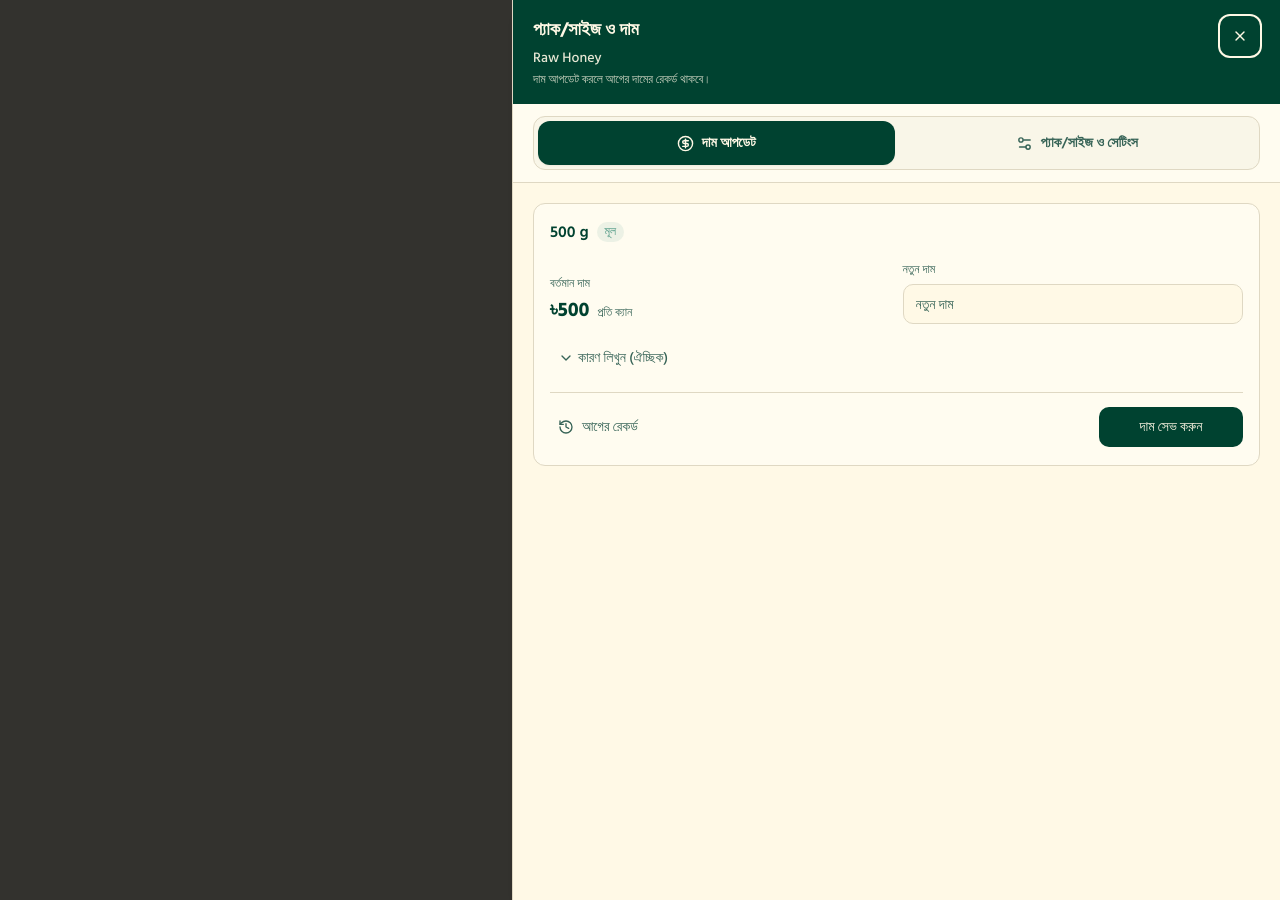
Test: price-first pack/size drawer › creates a named pack/size from the collapsed settings form and clears it after success
Press the mouse on the tab "প্যাক/সাইজ ও সেটিংস" at [1077, 143], box top-left (898, 121), bottom-right (1255, 165)
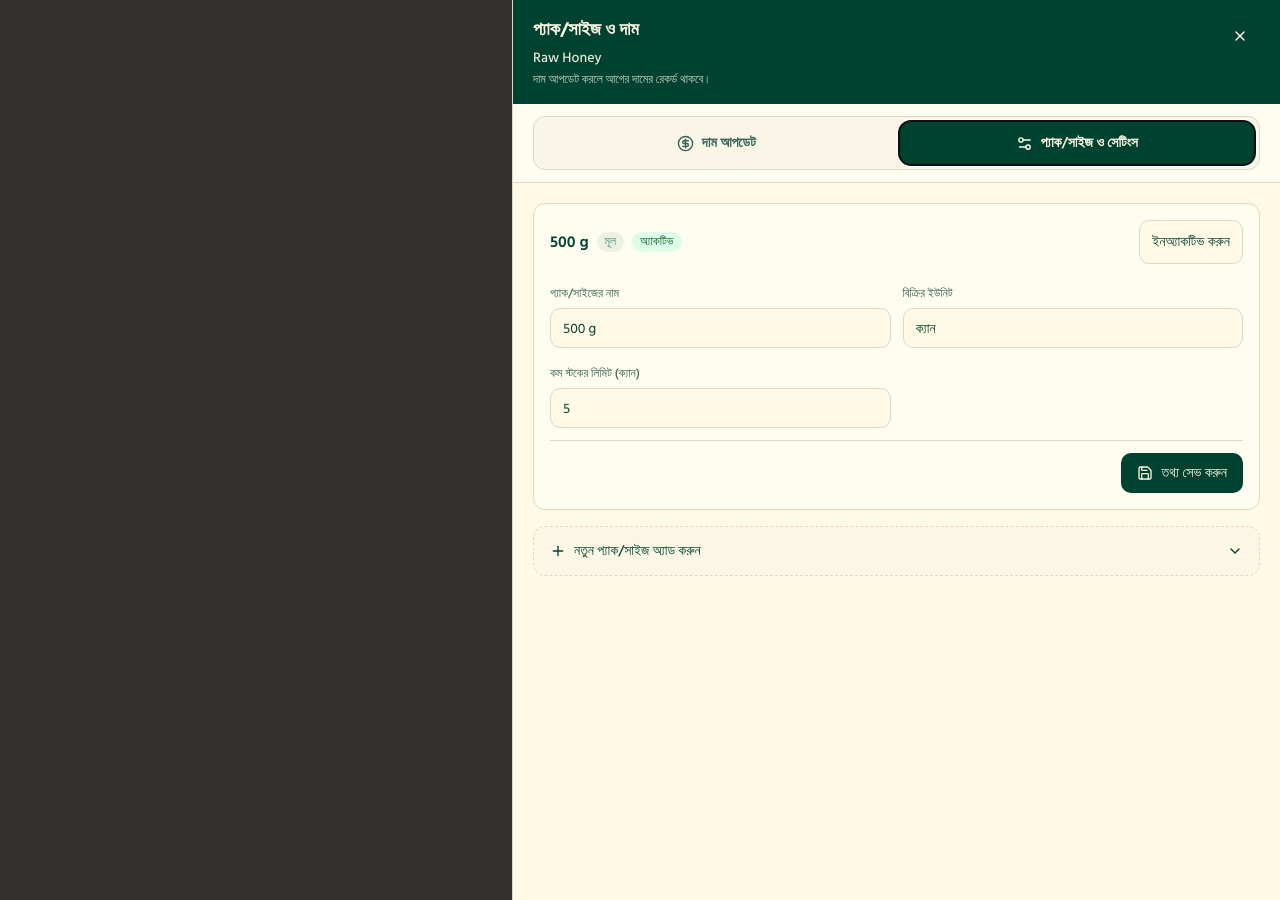
Click the button "নতুন প্যাক/সাইজ অ্যাড করুন" at [637, 550], box top-left (534, 527), bottom-right (1259, 575)
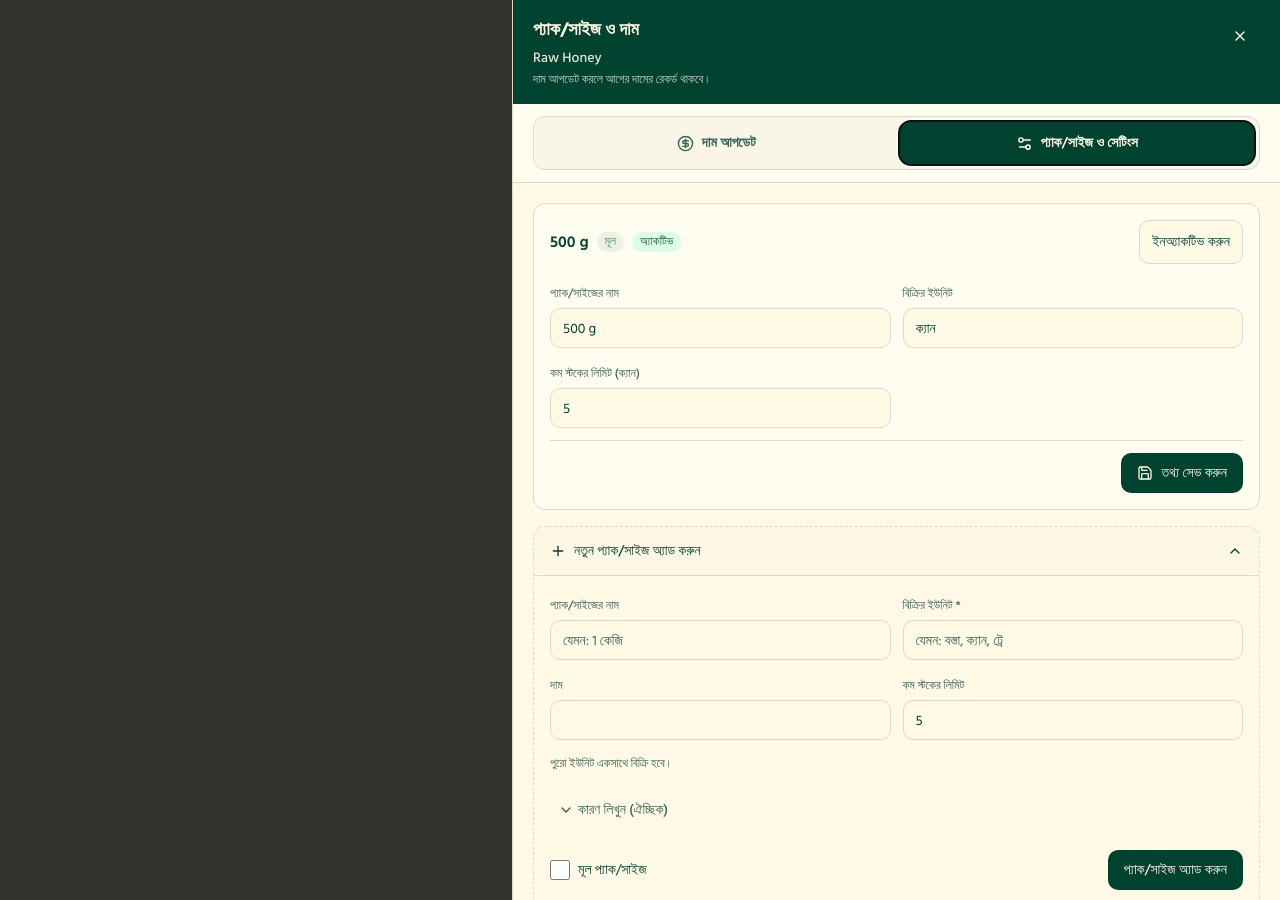
Type "1 kg" into the field labelled "প্যাক/সাইজের নাম" below "বিক্রির ইউনিট *" at [720, 640], box top-left (550, 620), bottom-right (890, 660)
Type "বস্তা" into the field labelled "বিক্রির ইউনিট *" at [1073, 640], box top-left (902, 620), bottom-right (1243, 660)
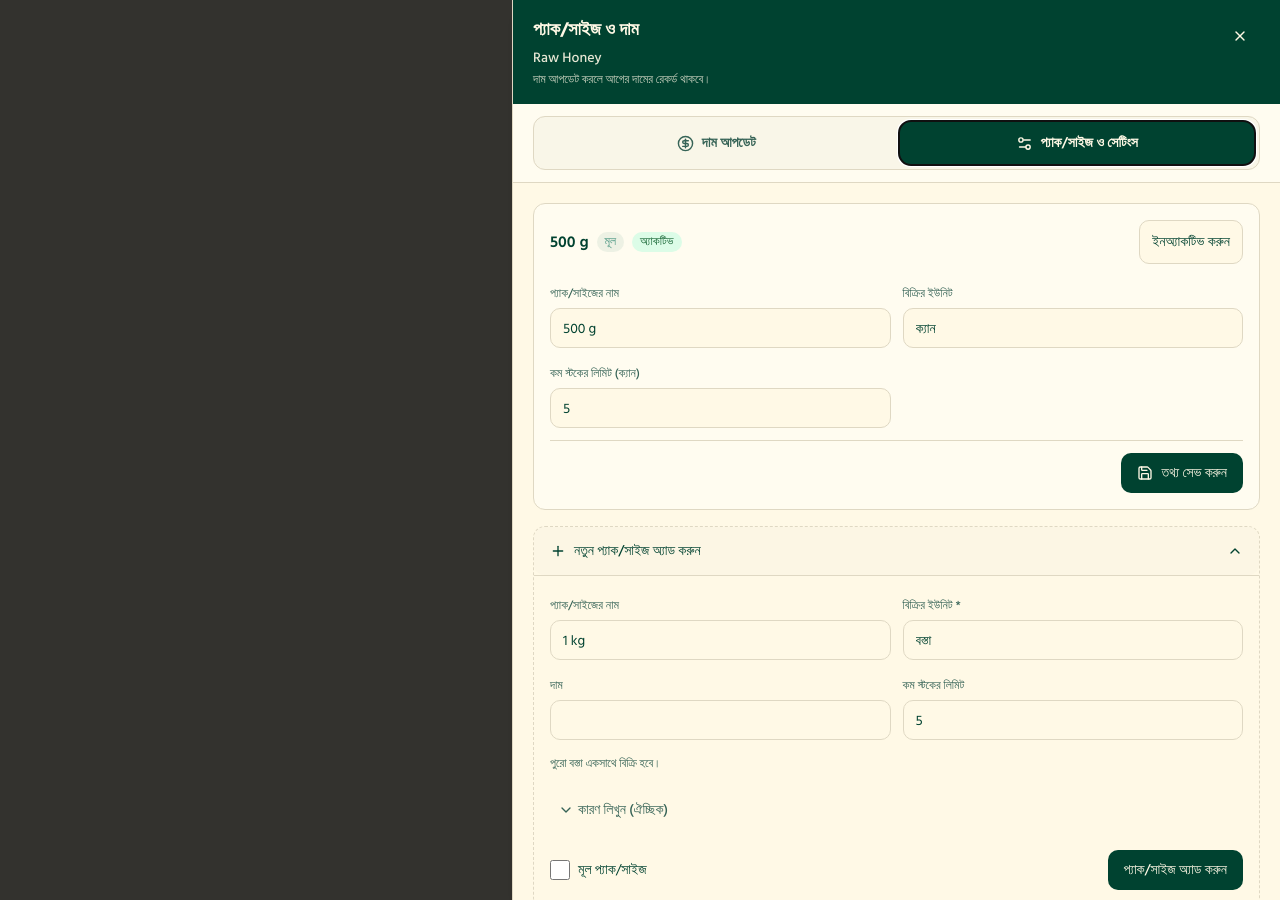
Type "900" into the number field labelled "দাম" at [720, 720], box top-left (550, 700), bottom-right (890, 740)
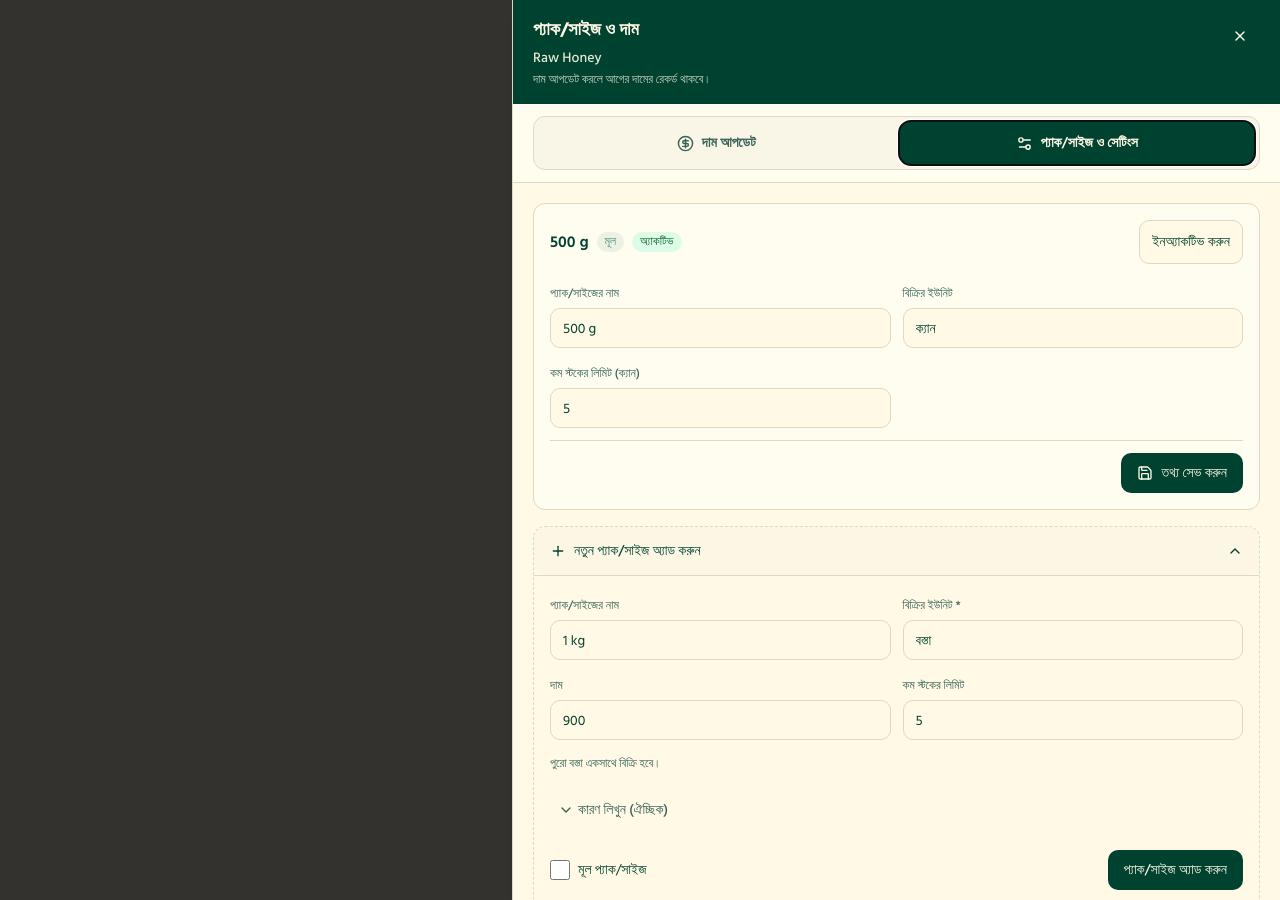
Result: the text "পুরো বস্তা একসাথে বিক্রি হবে।" is shown at top-left (550, 754), bottom-right (661, 773)
Click the button "প্যাক/সাইজ অ্যাড করুন" at [1175, 870], box top-left (1108, 850), bottom-right (1243, 890)
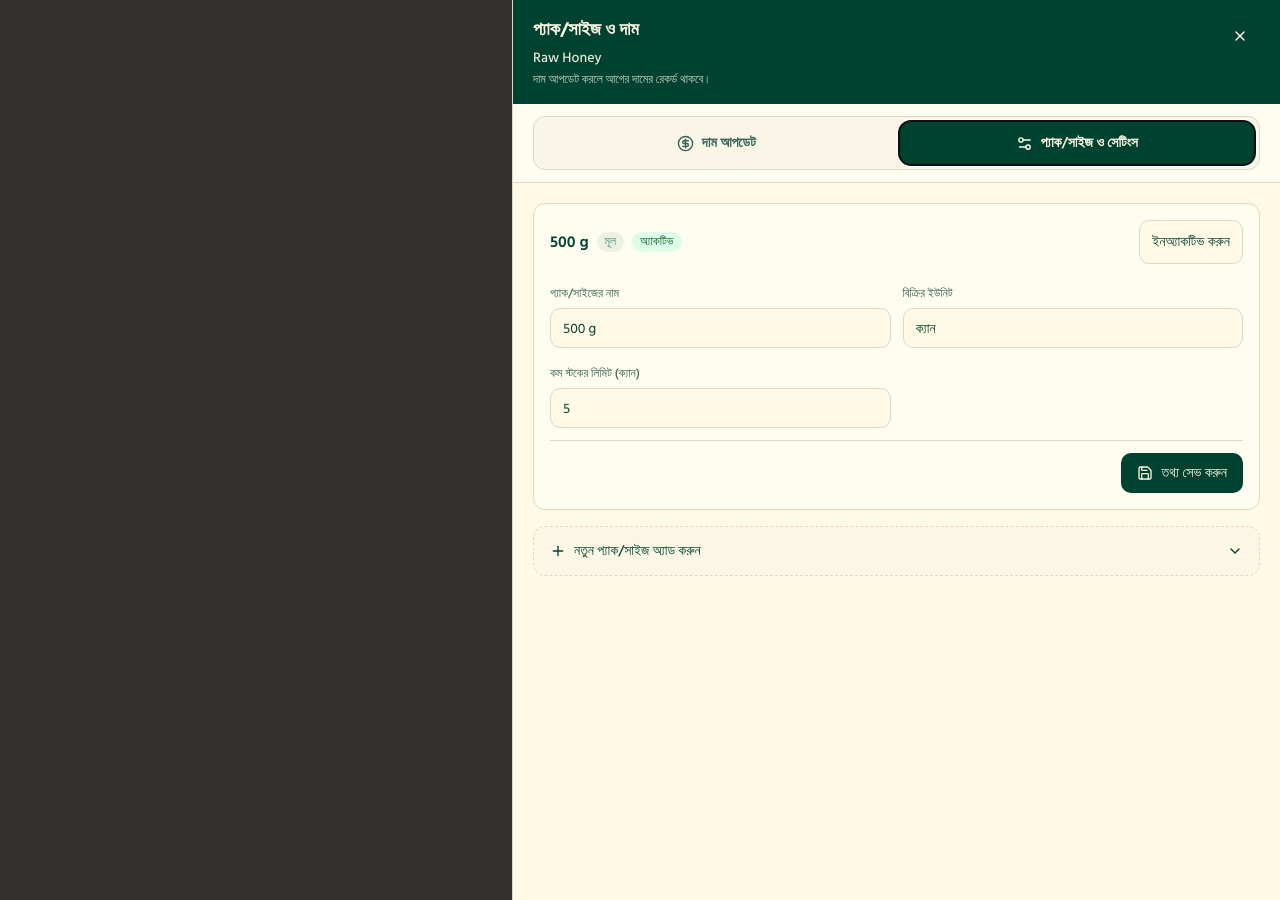
Result: the button "নতুন প্যাক/সাইজ অ্যাড করুন" is collapsed
Click the button "নতুন প্যাক/সাইজ অ্যাড করুন" at [637, 550], box top-left (534, 527), bottom-right (1259, 575)
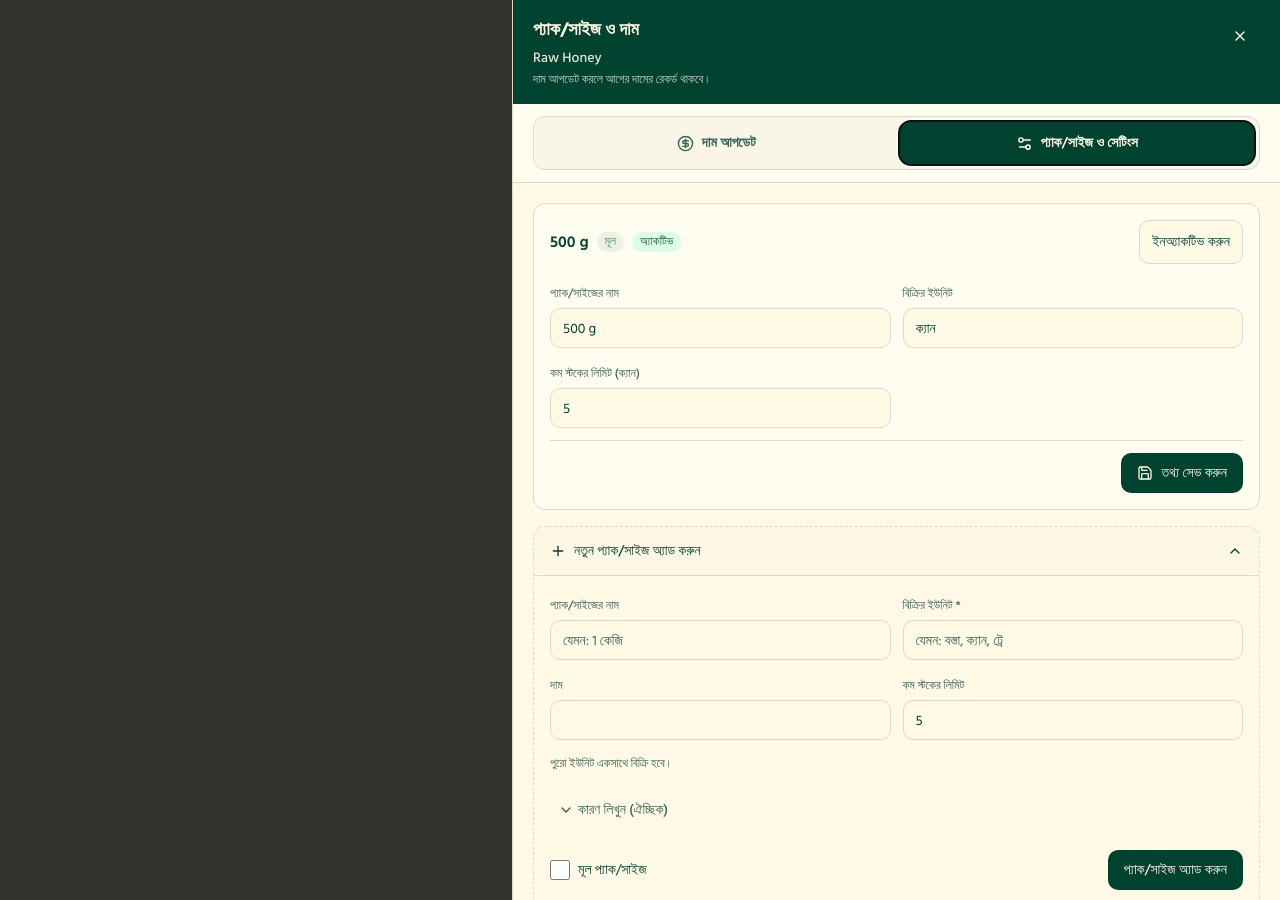
Result: the number field labelled "দাম" is not empty at top-left (550, 700), bottom-right (890, 740)
Result: the field labelled "প্যাক/সাইজের নাম" below "বিক্রির ইউনিট *" is empty at top-left (550, 620), bottom-right (890, 660)
